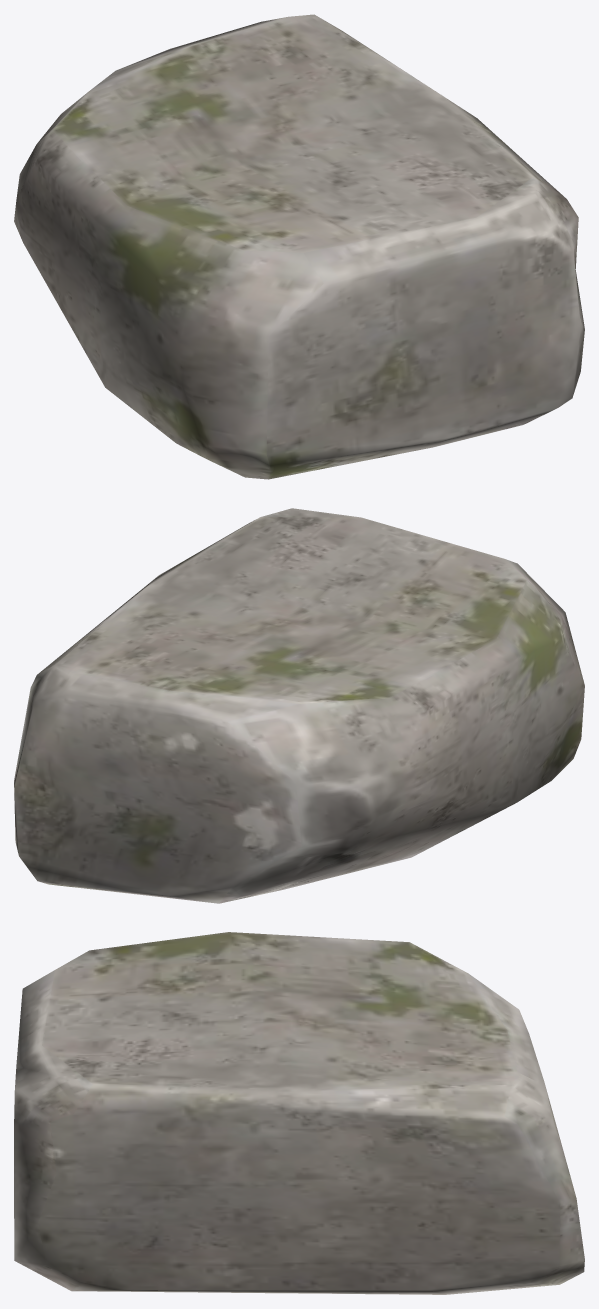
The picture shows the model from 3 angles, top to bottom: view 1: azimuth 30°, elevation 25°; view 2: azimuth 150°, elevation 25°; view 3: azimuth 270°, elevation 25°; orthographic projection. The views are drawn at different scales.
Visible parts, largest first — view 1: SM_Castle_Floor_Stone_01_Dmg_v8_LOD0; view 2: SM_Castle_Floor_Stone_01_Dmg_v8_LOD0; view 3: SM_Castle_Floor_Stone_01_Dmg_v8_LOD0.
Part boxes in pixels (bbox=[...]): SM_Castle_Floor_Stone_01_Dmg_v8_LOD0: bbox=[14, 14, 584, 479]; SM_Castle_Floor_Stone_01_Dmg_v8_LOD0: bbox=[14, 508, 584, 903]; SM_Castle_Floor_Stone_01_Dmg_v8_LOD0: bbox=[14, 932, 584, 1294].
Size of the model in its own units: 0.7461 by 0.4087 by 1.02.
Materials: 1 (1 with a texture image).
